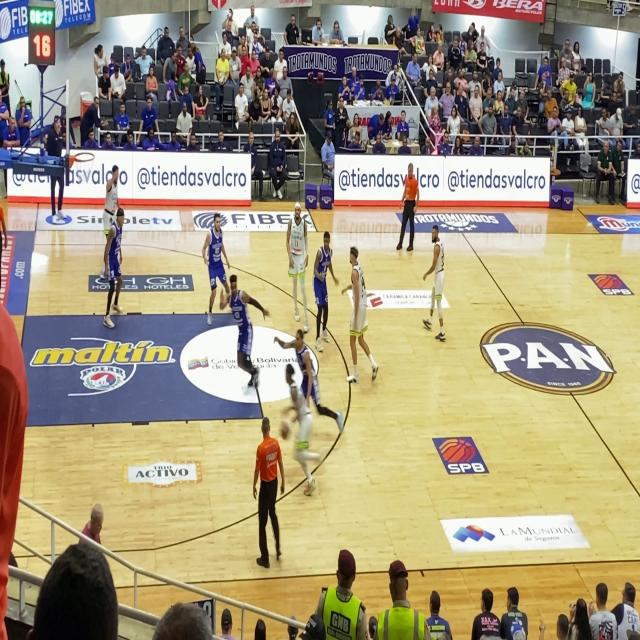Ball: (278, 422, 292, 440)
referee: (242, 418, 291, 574), (398, 148, 423, 261)
team1: (336, 246, 386, 386), (413, 217, 460, 354), (282, 356, 322, 487), (281, 196, 316, 334), (96, 157, 121, 233)
team2: (277, 307, 333, 404), (223, 276, 264, 396), (98, 206, 131, 338), (202, 212, 232, 323), (316, 228, 335, 344)
ubasket: (73, 150, 95, 183)
